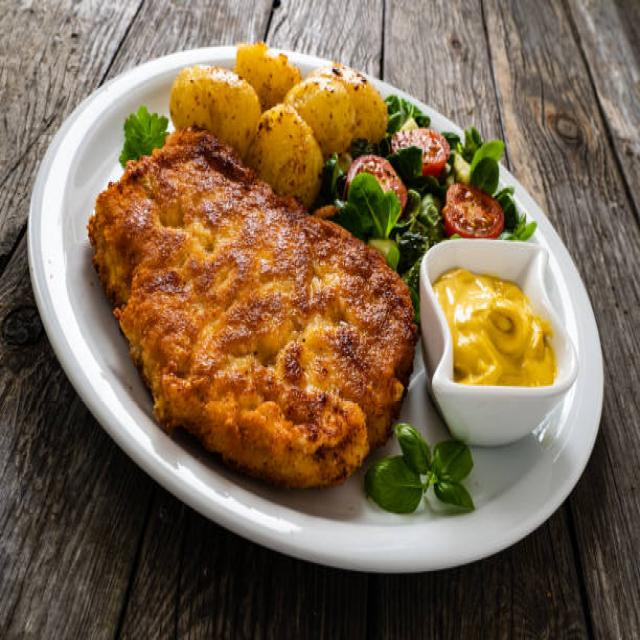Frango: (85, 124, 420, 500)
